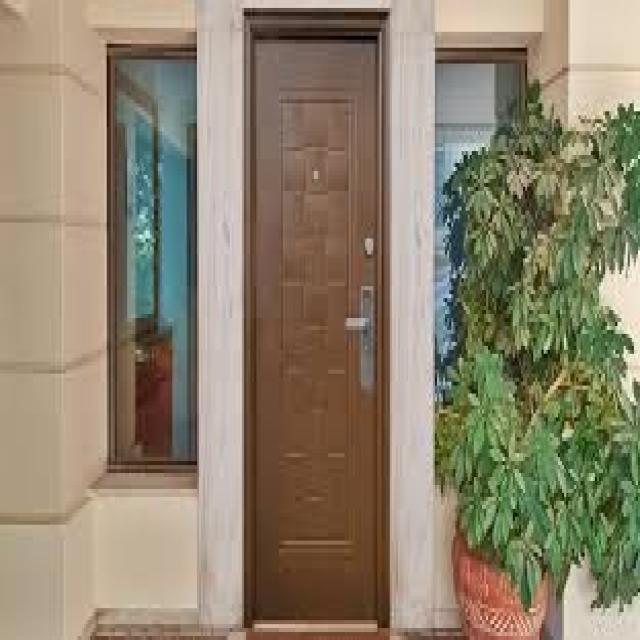door: (245, 20, 385, 628)
